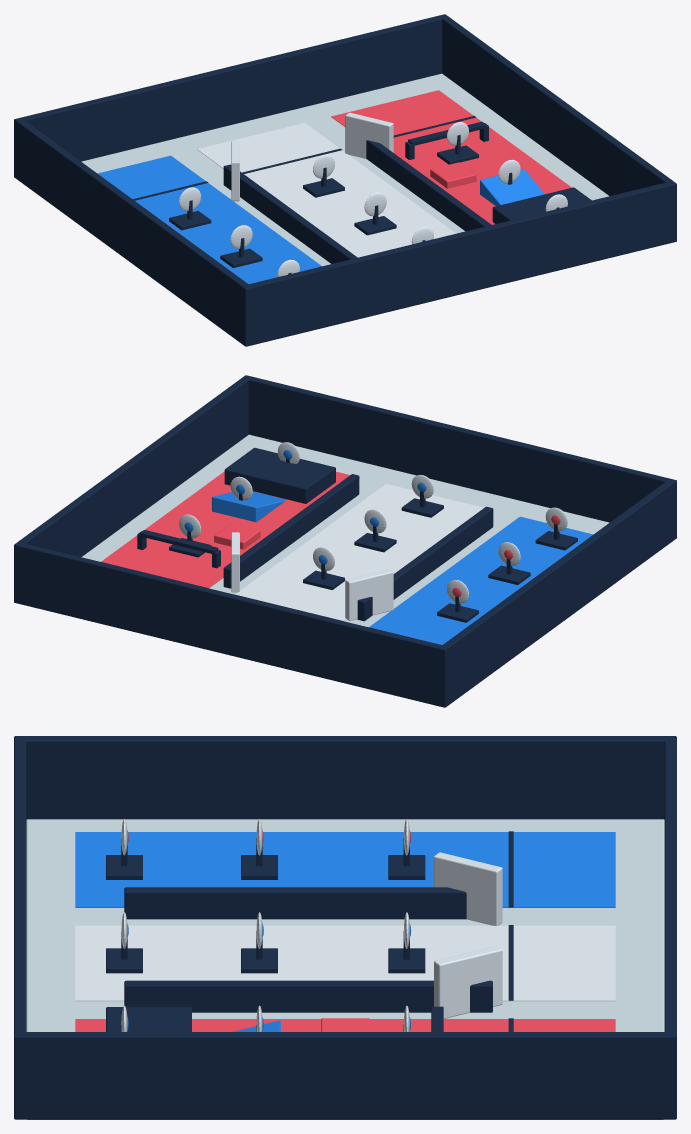
File: Treino.glb
3 views of the same model, one above another, from view 1: azimuth 30°, elevation 25°; view 2: azimuth 150°, elevation 25°; view 3: azimuth 270°, elevation 25° (orthographic). The views are drawn at different scales.
Parts seen in each view (by area): view 1: Treino_PB_182c4b, Treino_PB_edf8ff, Treino_PB_d5e7ef, Treino_PB_278fff, Treino_PB_ff5266, Treino_PB_e8f4ff; view 2: Treino_PB_182c4b, Treino_PB_edf8ff, Treino_PB_d5e7ef, Treino_PB_278fff, Treino_PB_ff5266, Treino_PB_e8f4ff; view 3: Treino_PB_182c4b, Treino_PB_d5e7ef, Treino_PB_278fff, Treino_PB_edf8ff, Treino_PB_e8f4ff, Treino_PB_ff5266.
Part boxes in pixels (left/top/right/bottom): Treino_PB_182c4b: left=14, top=14, right=676, bottom=346; Treino_PB_edf8ff: left=197, top=123, right=455, bottom=257; Treino_PB_d5e7ef: left=81, top=73, right=609, bottom=266; Treino_PB_278fff: left=97, top=155, right=544, bottom=283; Treino_PB_ff5266: left=331, top=90, right=571, bottom=224; Treino_PB_e8f4ff: left=179, top=112, right=567, bottom=276; Treino_PB_182c4b: left=14, top=375, right=676, bottom=707; Treino_PB_edf8ff: left=235, top=484, right=493, bottom=620; Treino_PB_d5e7ef: left=81, top=434, right=609, bottom=627; Treino_PB_278fff: left=184, top=450, right=593, bottom=644; Treino_PB_ff5266: left=101, top=471, right=560, bottom=596; Treino_PB_e8f4ff: left=179, top=442, right=567, bottom=620; Treino_PB_182c4b: left=14, top=736, right=676, bottom=1119; Treino_PB_d5e7ef: left=26, top=819, right=664, bottom=1119; Treino_PB_278fff: left=75, top=832, right=615, bottom=1031; Treino_PB_edf8ff: left=75, top=925, right=615, bottom=1001; Treino_PB_e8f4ff: left=121, top=819, right=502, bottom=1031; Treino_PB_ff5266: left=75, top=830, right=615, bottom=1031.
Bounding box in the file's own units: 32.48 × 4.48 × 30.24.
